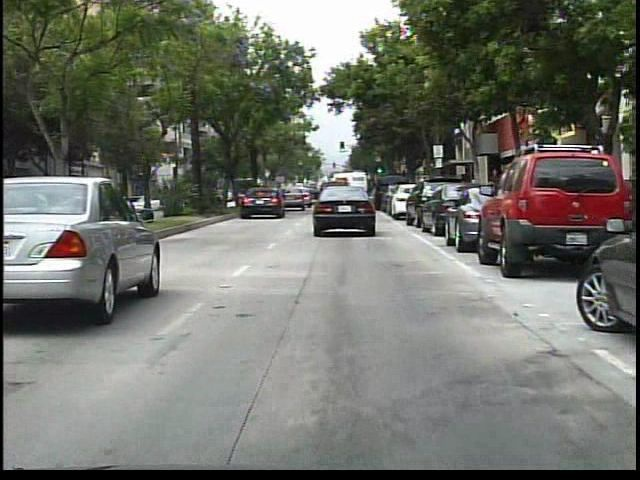person: (482, 160, 506, 221)
